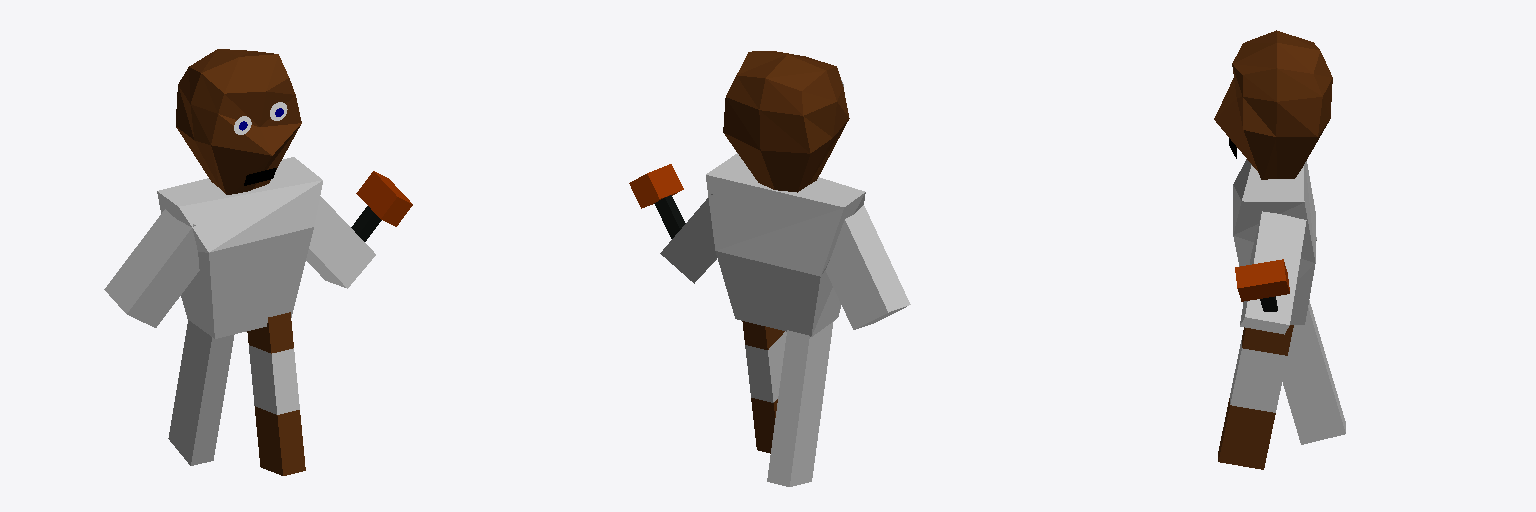
The model's file is servant2.obj.
3 renders of one model, left to right at view 1: azimuth 30°, elevation 25°; view 2: azimuth 150°, elevation 25°; view 3: azimuth 270°, elevation 25°, orthographic.
Visible parts, largest first — view 1: Cube.001, Cube, Cube.005, Cube.003, Cube.004, Cube.002, Cube.008, Cube.007; view 2: Cube.001, Cube, Cube.004, Cube.003, Cube.005, Cube.002, Cube.008, Cube.007; view 3: Cube, Cube.005, Cube.001, Cube.004, Cube.002, Cube.008.
Part boxes in pixels (x1,y1,x2,y2): Cube.001: (157, 157, 322, 338); Cube: (176, 49, 301, 194); Cube.005: (247, 312, 305, 475); Cube.003: (104, 209, 199, 327); Cube.004: (168, 320, 234, 465); Cube.002: (306, 196, 375, 288); Cube.008: (356, 171, 412, 226); Cube.007: (351, 206, 381, 241); Cube.001: (706, 153, 865, 336); Cube: (723, 51, 849, 192); Cube.004: (767, 321, 833, 486); Cube.003: (825, 205, 910, 329); Cube.005: (742, 321, 786, 453); Cube.002: (660, 194, 716, 283); Cube.008: (629, 164, 683, 208); Cube.007: (654, 195, 685, 238); Cube: (1214, 30, 1332, 179); Cube.005: (1218, 325, 1293, 469); Cube.001: (1233, 159, 1315, 324); Cube.004: (1282, 300, 1345, 444); Cube.002: (1240, 211, 1306, 334); Cube.008: (1235, 259, 1289, 301).
Bounding box in the file's own units: 4.16 × 5.98 × 1.75.